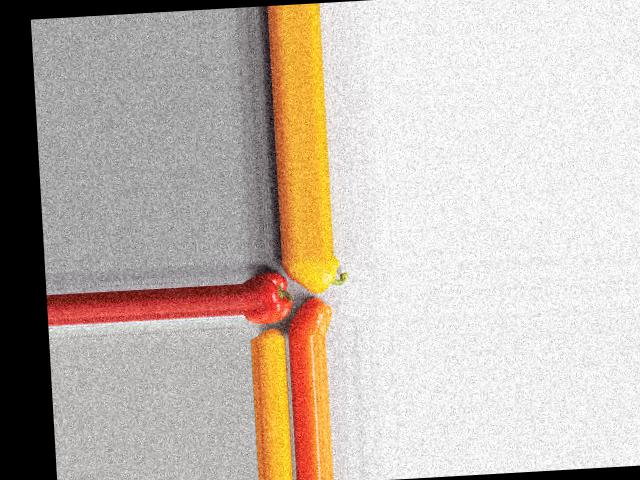bell_pepper: (241, 268, 294, 325)
